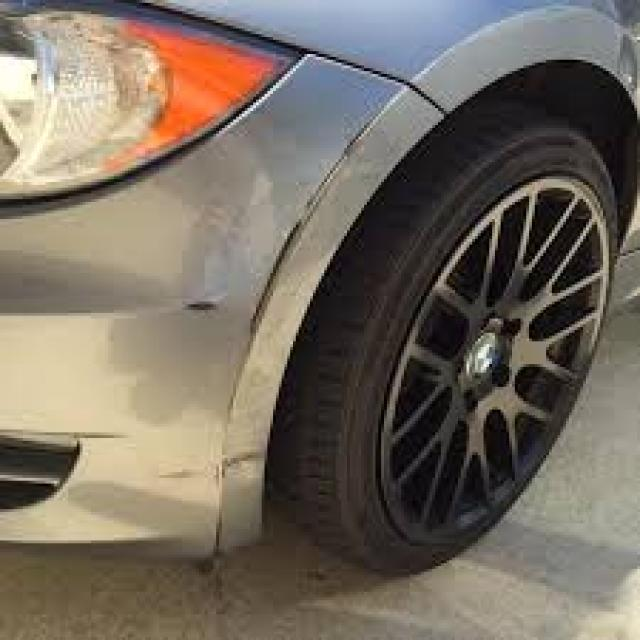minor: (222, 207, 318, 325), (169, 429, 258, 507)
